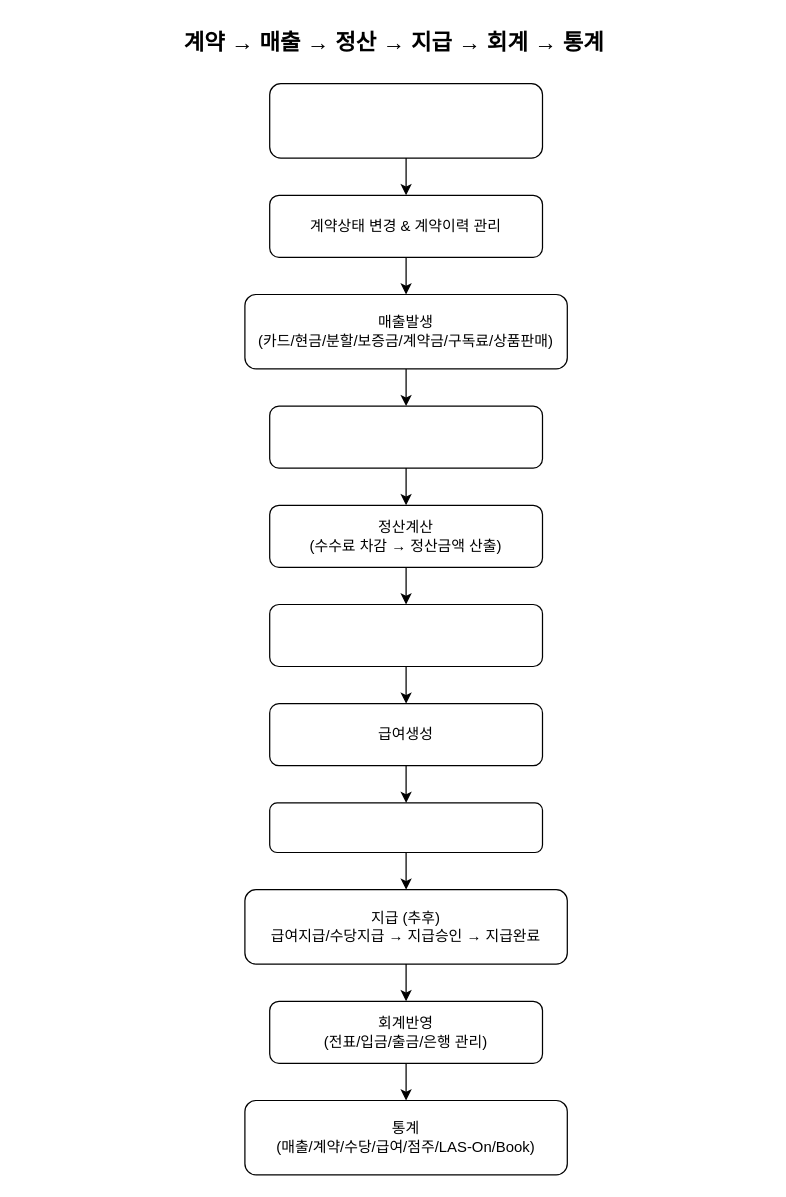
Image size: 786x1197. Some labels were removed from this diagram. The shapes that lost their labels are listed below. From the top down, each one's box as (x1, y1, x2, y2) in pixels, then its label:
(268, 82, 542, 158): 계약등록 (신규/증액/양도/양수/해약/폐기)
(268, 405, 542, 468): 입금관리 (분할입금/입금일/입금금액)
(268, 603, 542, 666): 수당산출 (조건엔진 활용)
(268, 802, 542, 852): 정산마감
